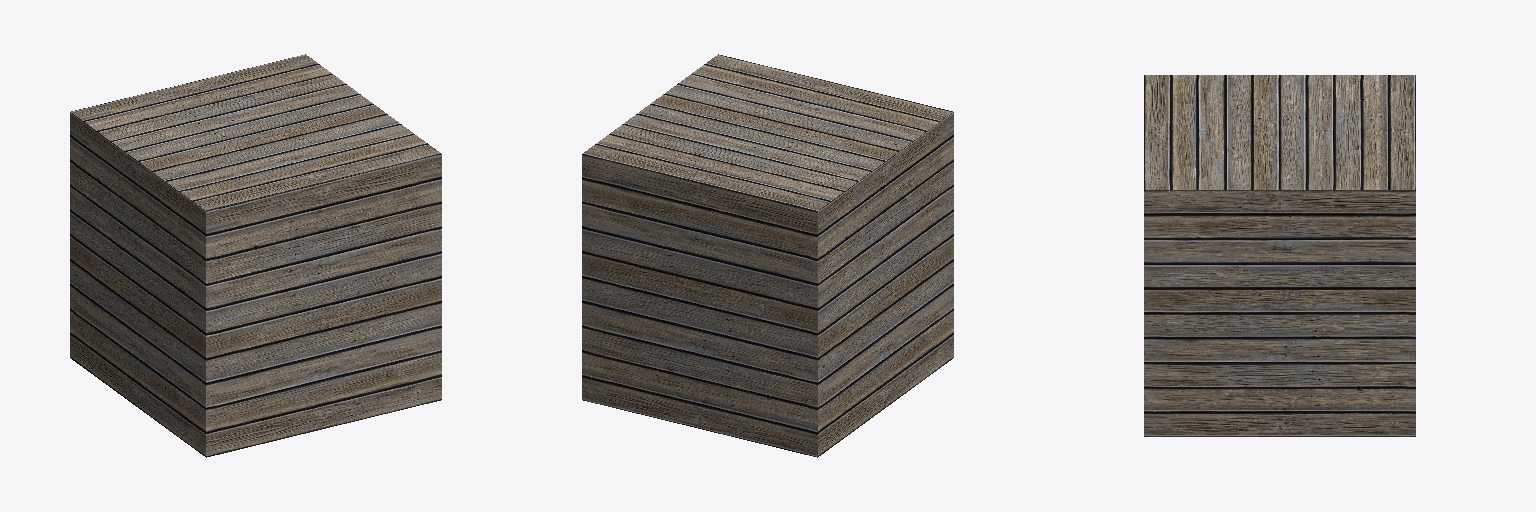
The picture shows the model from 3 angles: view 1: azimuth 30°, elevation 25°; view 2: azimuth 150°, elevation 25°; view 3: azimuth 270°, elevation 25°; orthographic projection.
Visible parts, largest first — view 1: Box01; view 2: Box01; view 3: Box01.
Part boxes in pixels (left/top/right/bottom): Box01: left=70, top=54, right=441, bottom=457; Box01: left=582, top=54, right=953, bottom=457; Box01: left=1144, top=75, right=1415, bottom=436.
Size of the model in its own units: 1 by 1 by 1.
1 materials, 1 textured.